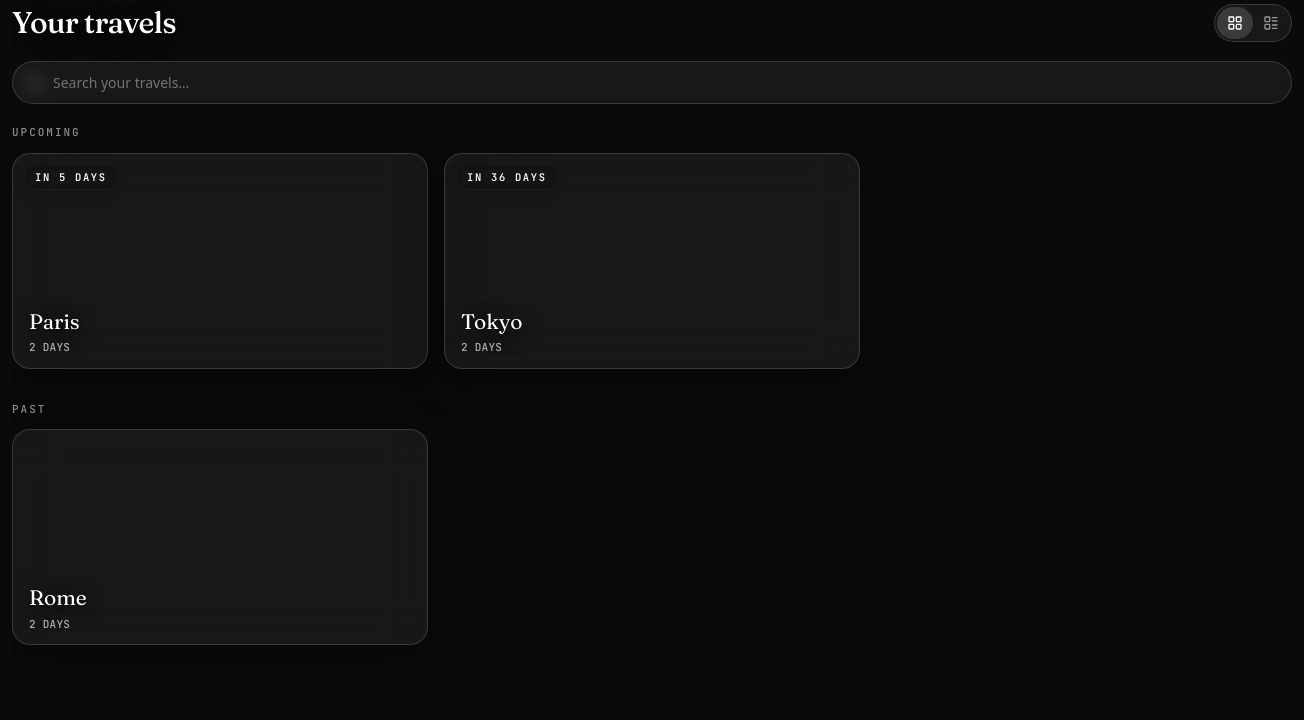
Test: TravelsList › shows an empty state when nothing matches
Type "zzzznotrip" into the search field at (652, 82), box [12, 61, 1292, 104]
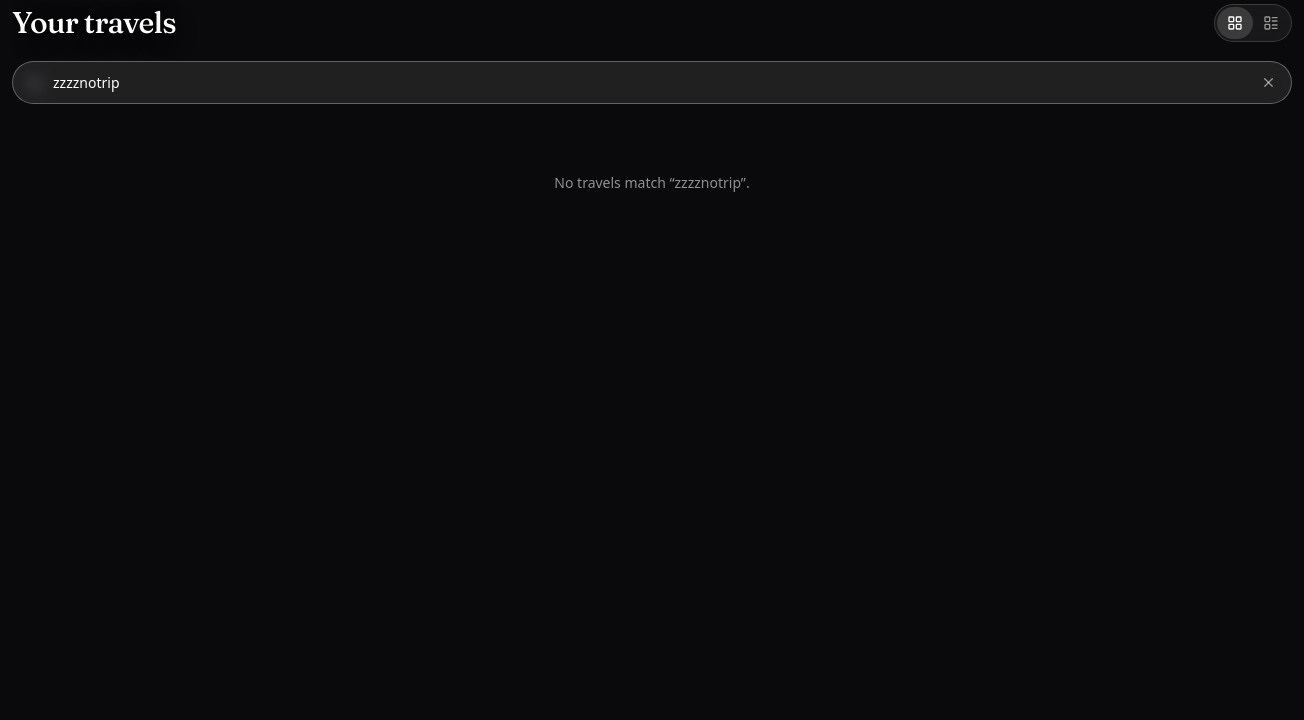
Expected: the text "No travels match “zzzznotrip”." is shown, [554, 173, 750, 192]
Expected: the heading "Upcoming" is gone
